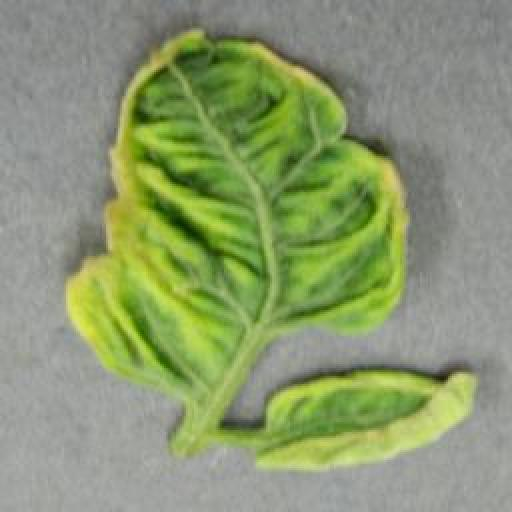disease_tomato: (66, 24, 408, 382), (248, 367, 478, 473)
